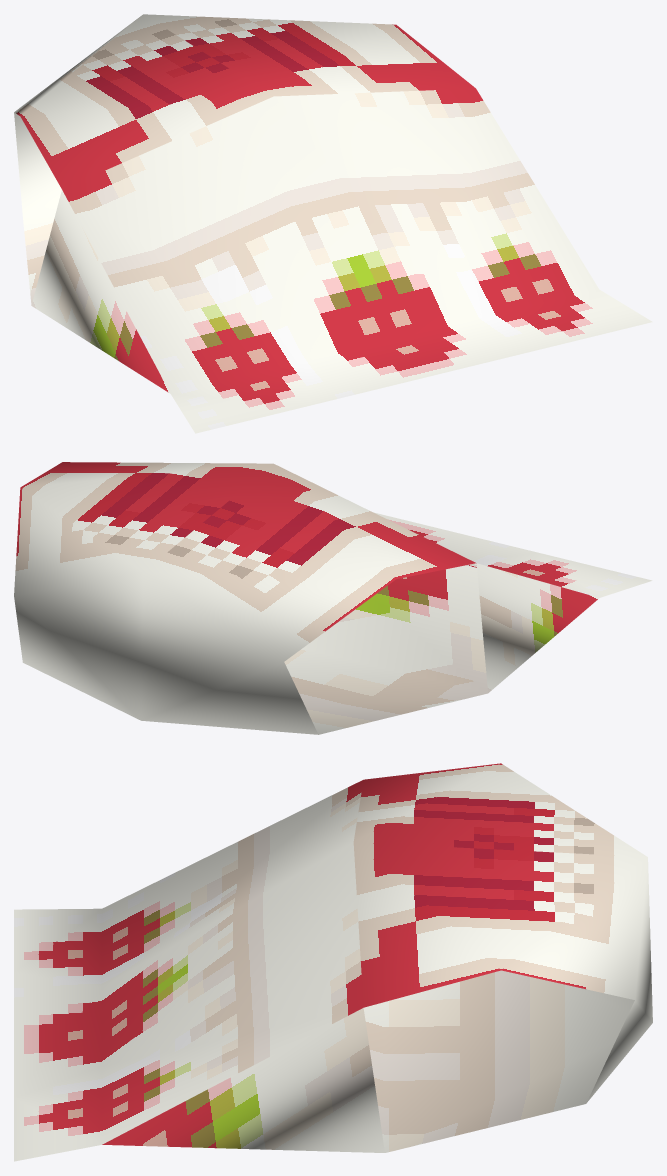
3 views of the same model, one above another, from view 1: azimuth 30°, elevation 25°; view 2: azimuth 150°, elevation 25°; view 3: azimuth 270°, elevation 25° (orthographic). The views are drawn at different scales.
Parts seen in each view (by area): view 1: 2531top000_c; view 2: 2531top000_c; view 3: 2531top000_c.
Boxes of the visible parts, box(x1,y1,x2,y2) form: 2531top000_c: box(14, 14, 652, 433); 2531top000_c: box(14, 462, 652, 734); 2531top000_c: box(14, 763, 652, 1161).
Bounding box in the file's own units: 0.7598 × 0.2717 × 0.814.
Materials: 1 (1 with a texture image).
